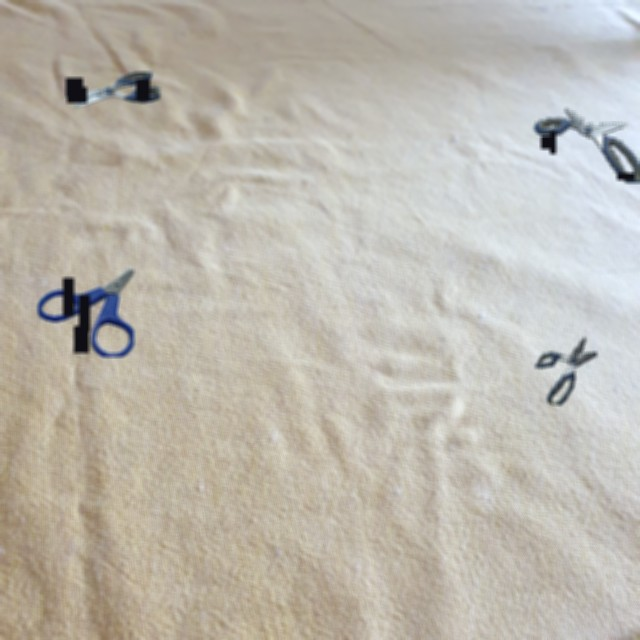scissors: (38, 268, 134, 357), (533, 108, 640, 183), (535, 337, 597, 405), (66, 72, 160, 108)
